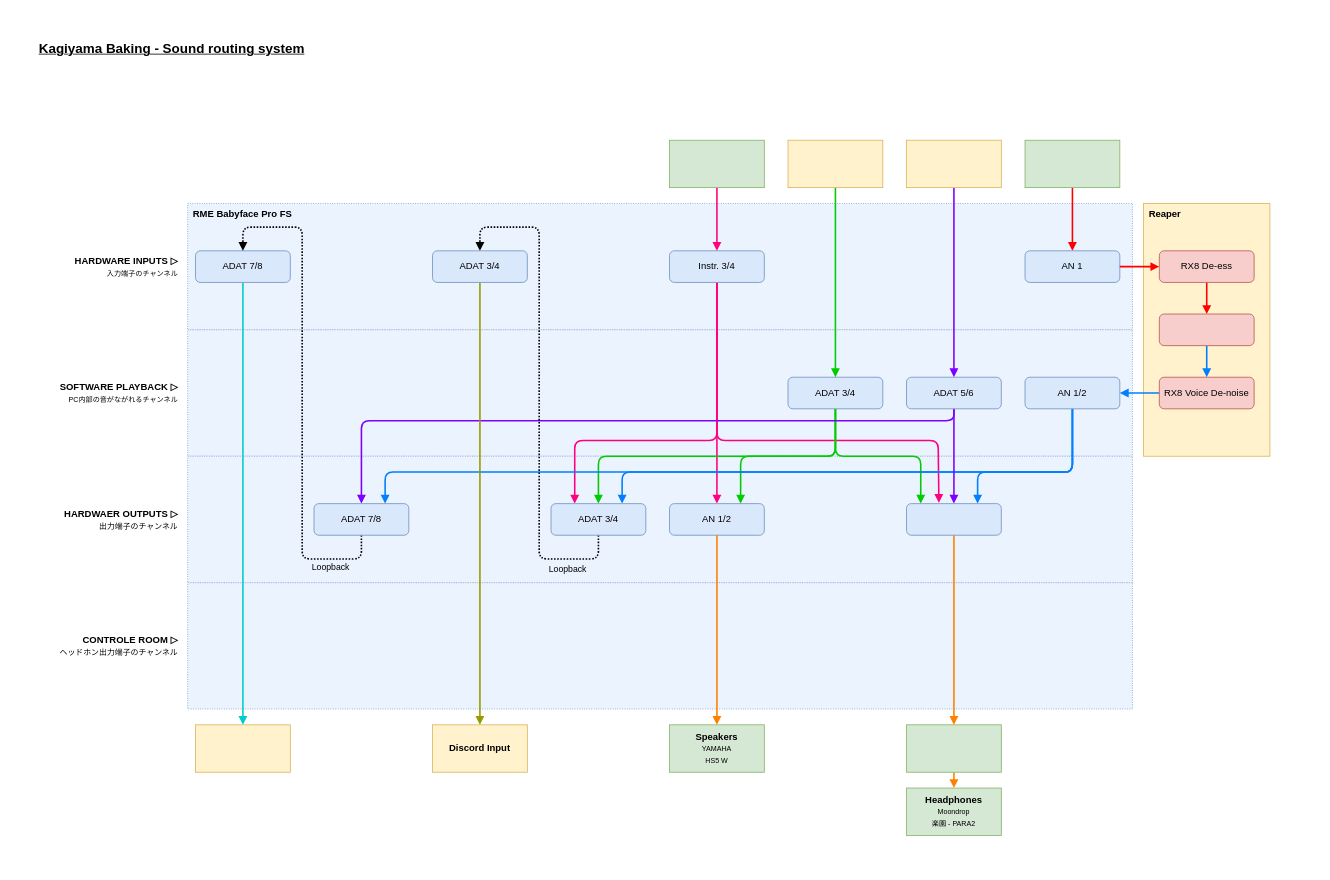
This 1330x880 diagram has some shape labels left out. Each missing label, with the centre of its shape:
"AS 1/2" goes at (953,519).
"Caputure Unit AverMedia LIVE GAMER EXTRERE 3" goes at (716,163).
"DAC TOPPING DX5 Ⅱ" goes at (953,748).
"Discord Output" goes at (953,163).
"Gachikoe" goes at (1206,329).
"Mic SURE BETA 58A" goes at (1072,163).
"Notion Input" goes at (242,748).
"PC Default Output" goes at (835,163).
